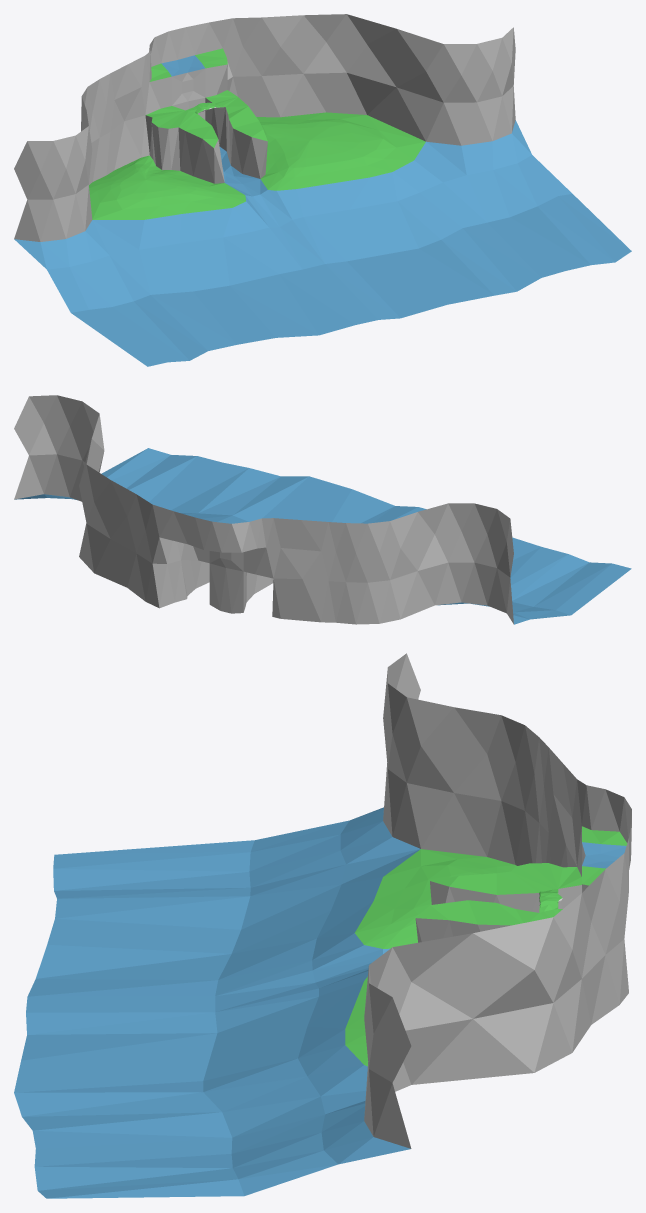
The model's file is Island.fbx.
3 views of the same model, one above another, from view 1: azimuth 30°, elevation 25°; view 2: azimuth 150°, elevation 25°; view 3: azimuth 270°, elevation 25° (orthographic). The views are drawn at different scales.
Visible parts, largest first — view 1: Island; view 2: Island; view 3: Island.
Boxes of the visible parts, x1,y1,x2,y2 form: Island: [14, 14, 631, 366]; Island: [14, 395, 631, 624]; Island: [14, 653, 631, 1198].
Bounding box in the file's own units: 8900 × 2422 × 6530.
